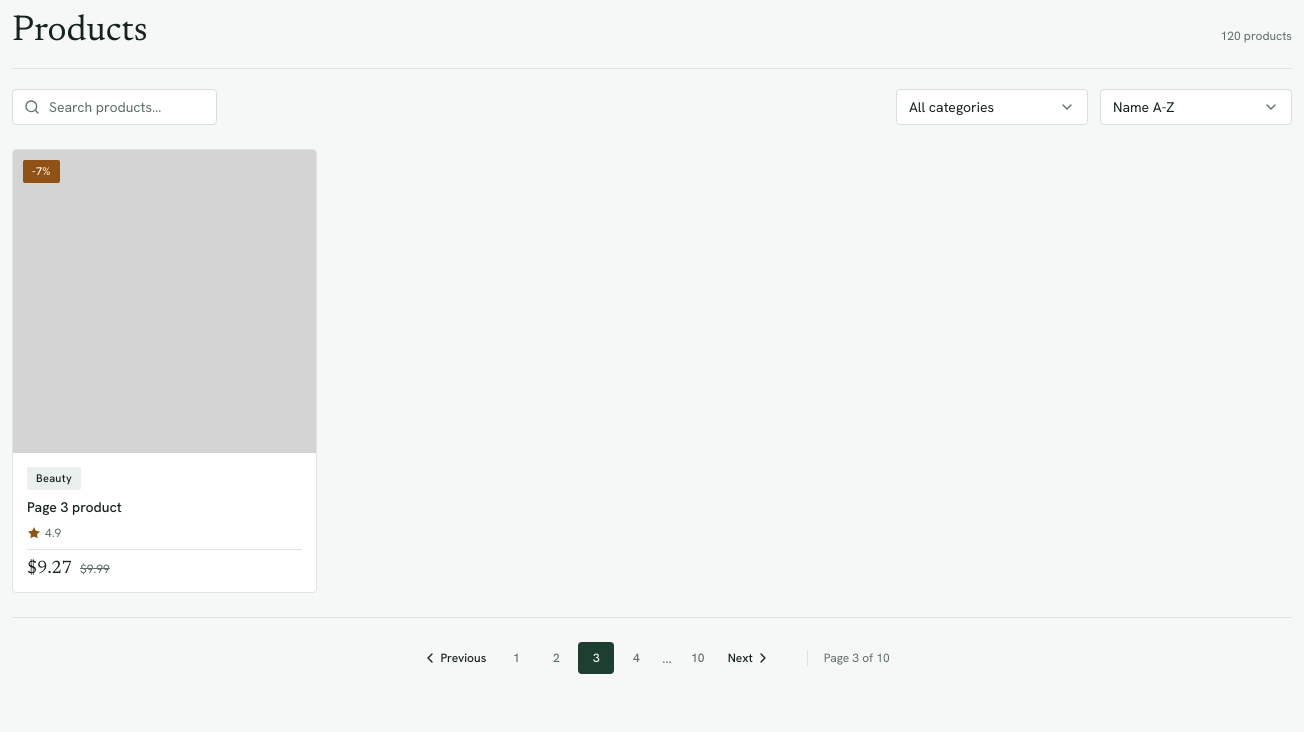
ProductListPage › shows the page the URL asks for and swaps results when another page is picked
Expected: the heading "Page 3 product" is shown, [27,498,122,516]
Click the button named "Page 4": coordinates (636, 658) [618,642,654,674]
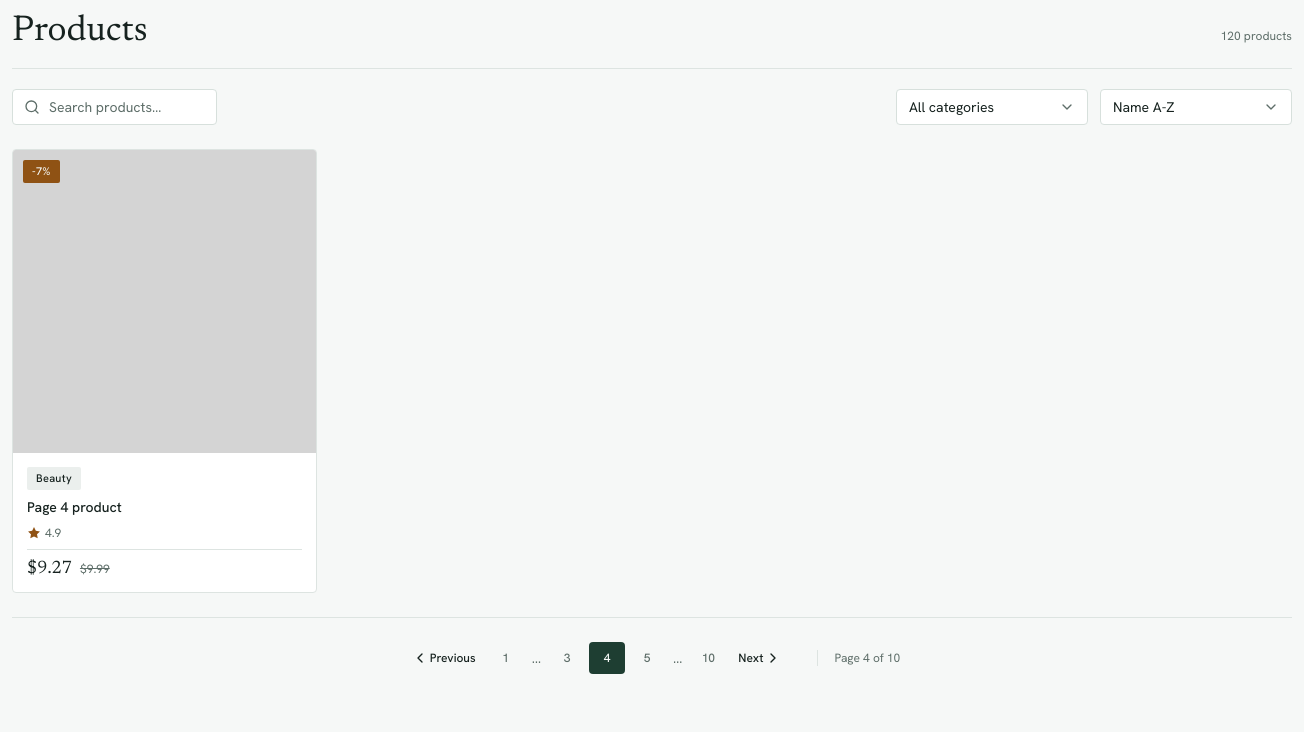
Now the heading "Page 4 product" is shown, box [27,498,122,516]
Now the heading "Page 3 product" is gone
Now the text "Page 4 of 10" is shown, box [817,650,900,666]
